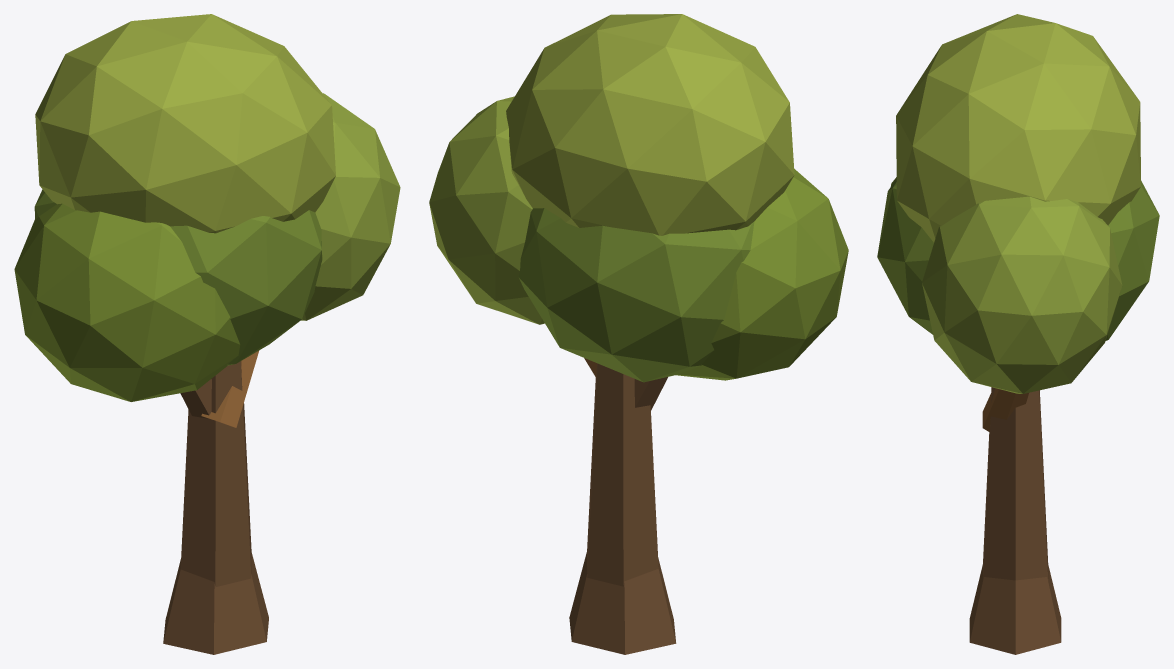
Rendered from tree-canopy-6.gltf.
3 renders of one model, left to right at view 1: azimuth 30°, elevation 25°; view 2: azimuth 150°, elevation 25°; view 3: azimuth 270°, elevation 25°, orthographic. The views are drawn at different scales.
Parts seen in each view (by area): view 1: tree-canopy-6; view 2: tree-canopy-6; view 3: tree-canopy-6.
Part boxes in pixels (box(x1,y1,x2,y2)): tree-canopy-6: box(14, 14, 400, 654); tree-canopy-6: box(429, 14, 848, 654); tree-canopy-6: box(877, 14, 1159, 654).
Bounding box in the file's own units: 1.11 × 1.73 × 0.767.
